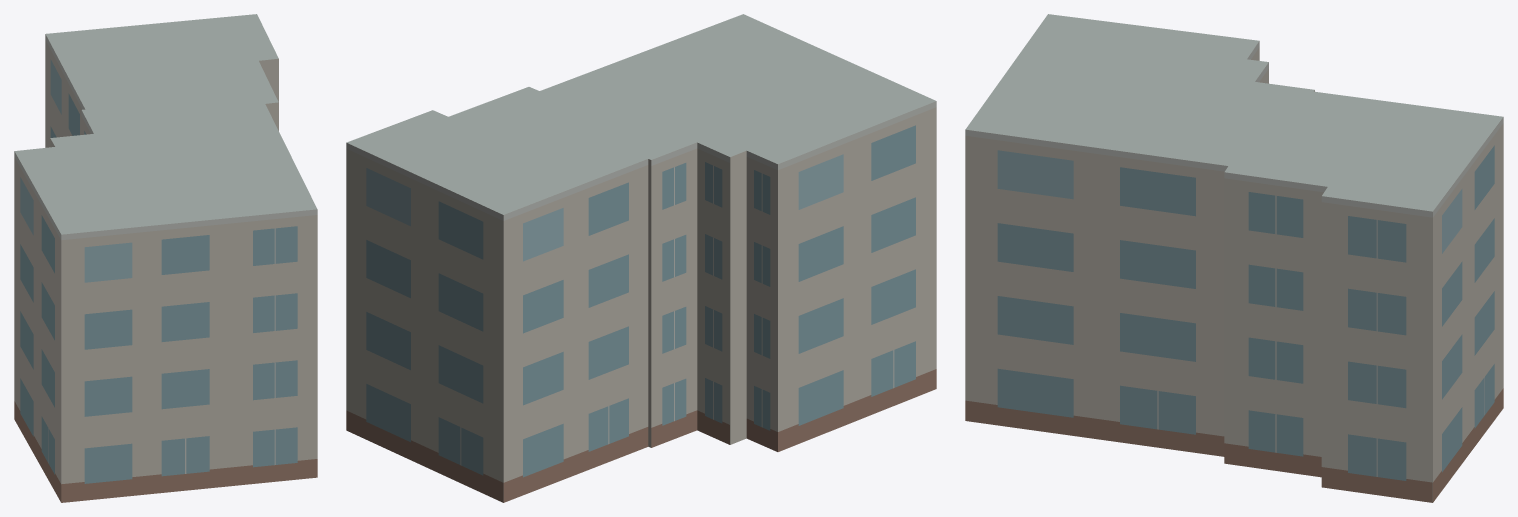
The model's file is survey-upis-32509611.glb.
3 views of the same model, side by side, from view 1: azimuth 30°, elevation 25°; view 2: azimuth 150°, elevation 25°; view 3: azimuth 270°, elevation 25° (orthographic). The views are drawn at different scales.
Parts seen in each view (by area): view 1: survey-upis-32509611.tmp; view 2: survey-upis-32509611.tmp; view 3: survey-upis-32509611.tmp.
Part boxes in pixels (bbox=[...]): survey-upis-32509611.tmp: bbox=[14, 14, 317, 502]; survey-upis-32509611.tmp: bbox=[346, 14, 936, 502]; survey-upis-32509611.tmp: bbox=[965, 14, 1503, 502].
Size of the model in its own units: 17.03 by 11.7 by 19.6.
